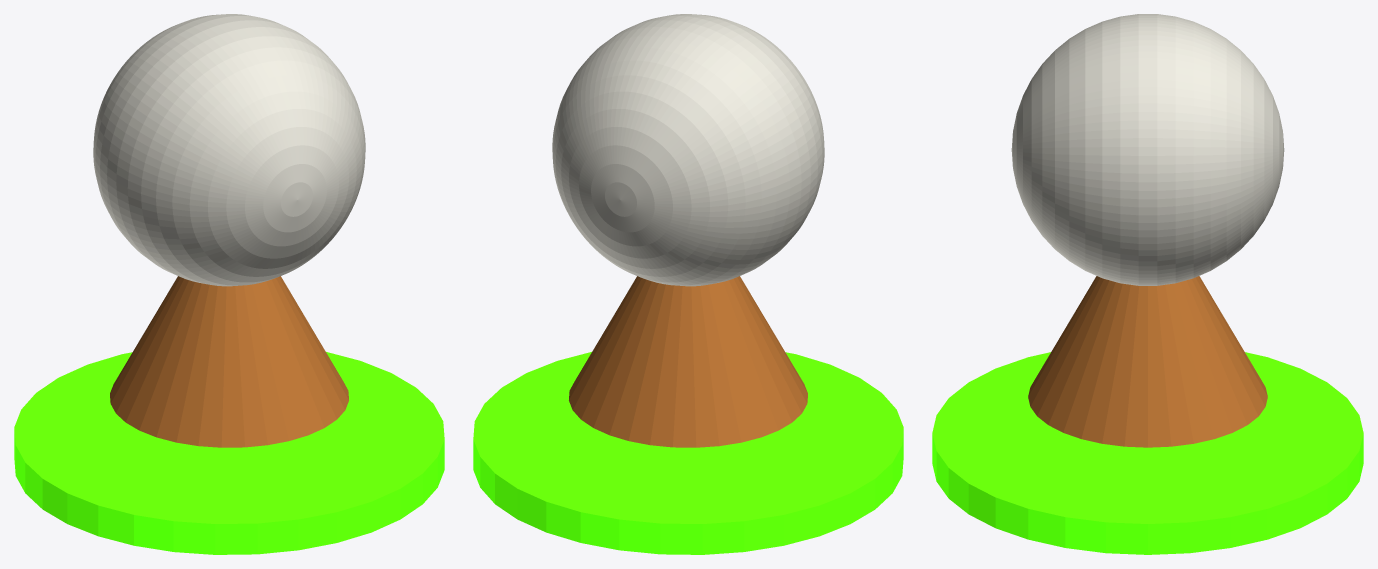
The model's file is food_ice_cream_cone.dae.
3 renders of one model, left to right at view 1: azimuth 30°, elevation 25°; view 2: azimuth 150°, elevation 25°; view 3: azimuth 270°, elevation 25°, orthographic.
Parts seen in each view (by area): view 1: 01_09_Popular_Food_Ice_Cream_Cone_part_02, 01_09_Popular_Food_Ice_Cream_Cone_ROOT_base, 01_09_Popular_Food_Ice_Cream_Cone_part_01; view 2: 01_09_Popular_Food_Ice_Cream_Cone_part_02, 01_09_Popular_Food_Ice_Cream_Cone_ROOT_base, 01_09_Popular_Food_Ice_Cream_Cone_part_01; view 3: 01_09_Popular_Food_Ice_Cream_Cone_part_02, 01_09_Popular_Food_Ice_Cream_Cone_ROOT_base, 01_09_Popular_Food_Ice_Cream_Cone_part_01.
Part boxes in pixels (bbox=[...]): 01_09_Popular_Food_Ice_Cream_Cone_part_02: bbox=[93, 14, 365, 286]; 01_09_Popular_Food_Ice_Cream_Cone_ROOT_base: bbox=[14, 352, 444, 554]; 01_09_Popular_Food_Ice_Cream_Cone_part_01: bbox=[110, 276, 348, 447]; 01_09_Popular_Food_Ice_Cream_Cone_part_02: bbox=[552, 14, 824, 286]; 01_09_Popular_Food_Ice_Cream_Cone_ROOT_base: bbox=[473, 352, 903, 554]; 01_09_Popular_Food_Ice_Cream_Cone_part_01: bbox=[569, 276, 807, 447]; 01_09_Popular_Food_Ice_Cream_Cone_part_02: bbox=[1011, 14, 1284, 285]; 01_09_Popular_Food_Ice_Cream_Cone_ROOT_base: bbox=[932, 352, 1363, 554]; 01_09_Popular_Food_Ice_Cream_Cone_part_01: bbox=[1028, 276, 1267, 447].
Bounding box in the file's own units: 0.76 × 0.85 × 0.76.
